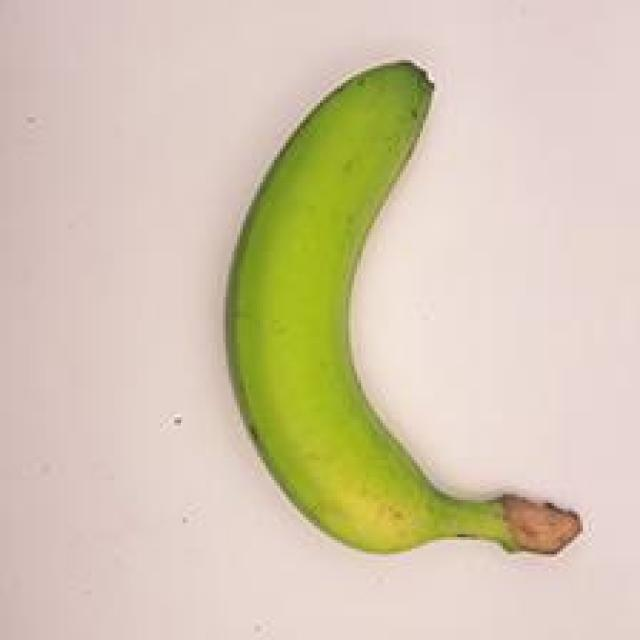Unripe: (205, 56, 620, 564)
